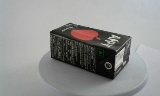appy: (46, 22, 124, 80)
